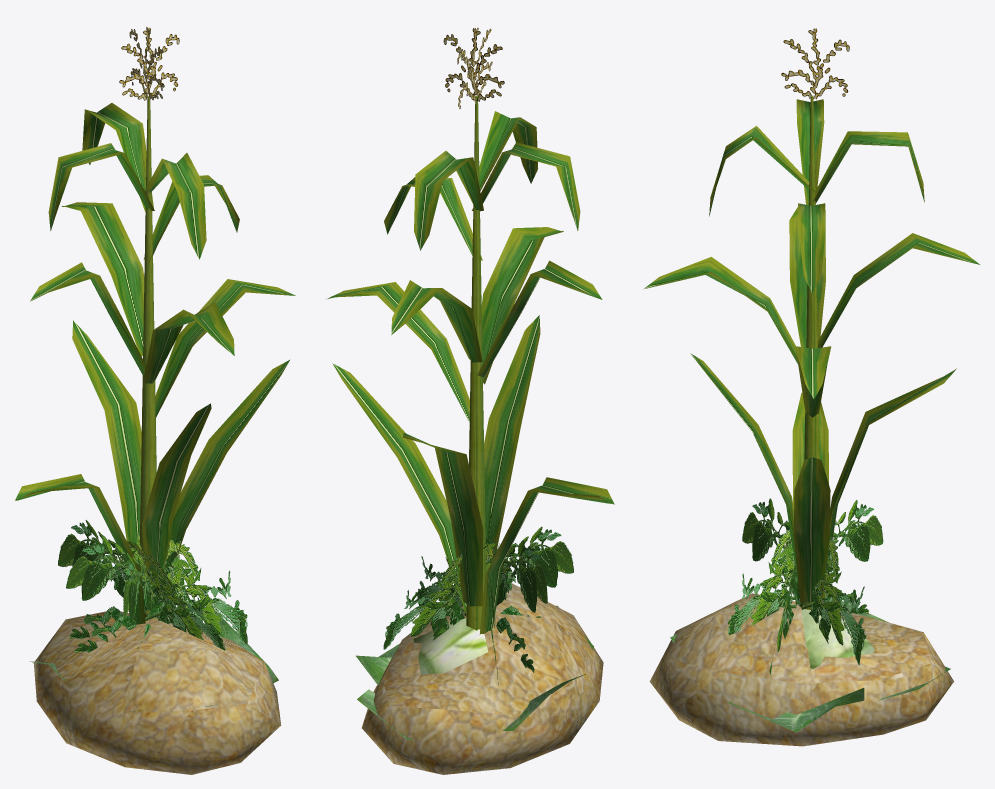
Rendered from TerrainPlants.FBX.
3 renders of one model, left to right at view 1: azimuth 30°, elevation 25°; view 2: azimuth 150°, elevation 25°; view 3: azimuth 270°, elevation 25°, orthographic. The views are drawn at different scales.
Parts seen in each view (by area): view 1: Corn Stalk, River Rock, Tomato, Cabbage; view 2: Corn Stalk, River Rock, Tomato, Cabbage; view 3: River Rock, Corn Stalk, Tomato, Cabbage.
Boxes of the visible parts, box(x1,y1,x2,y2) form: Corn Stalk: box(15, 27, 295, 624); River Rock: box(33, 611, 281, 774); Tomato: box(58, 520, 247, 653); Cabbage: box(30, 610, 278, 711); Corn Stalk: box(326, 28, 614, 634); River Rock: box(362, 583, 603, 774); Tomato: box(383, 526, 573, 685); Cabbage: box(356, 605, 593, 740); River Rock: box(649, 593, 953, 746); Corn Stalk: box(643, 28, 979, 609); Tomato: box(727, 498, 883, 674); Cabbage: box(670, 597, 950, 732).
Bounding box in the file's own units: 80.21 × 194 × 83.94.
